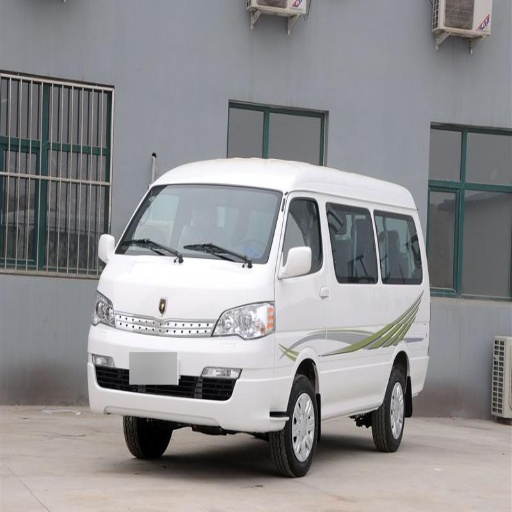front_bumper: (93, 315, 296, 430)
front_glass: (115, 186, 282, 263)
front_left_door: (280, 194, 322, 275)
